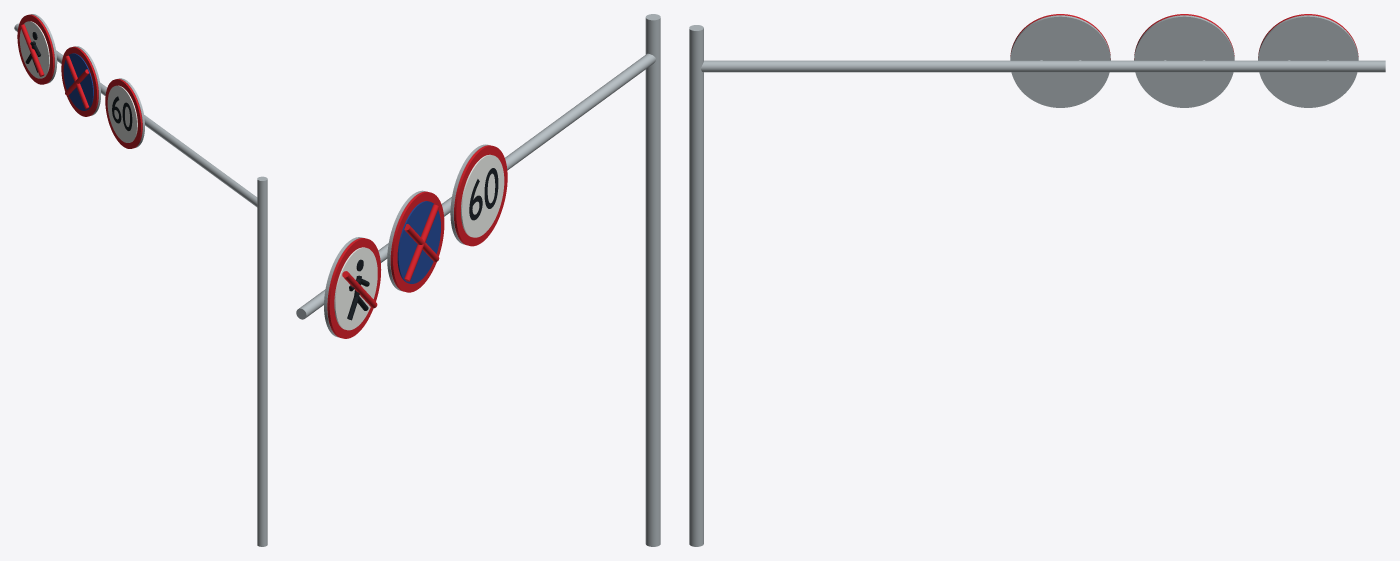
The model's file is portal-signs.glb.
The picture shows the model from 3 angles, left to right: view 1: azimuth 30°, elevation 25°; view 2: azimuth 150°, elevation 25°; view 3: azimuth 270°, elevation 25°; orthographic projection. The views are drawn at different scales.
Visible parts, largest first — view 1: Cantilever post, Cantilever sign beam, Sign face.002, Sign face.001, Sign face, Red circular border, Red circular border.002, Red circular border.001; view 2: Cantilever post, Cantilever sign beam, Sign face.002, Sign face, Sign face.001, Red circular border.002, Red circular border, Red circular border.001, Speed limit 60, No stopping cross; view 3: Cantilever sign beam, Cantilever post, Galvanized sign back.001, Galvanized sign back.002, Galvanized sign back.
Boxes of the visible parts, box(x1,y1,x2,y2) form: Cantilever post: box(257, 176, 267, 546); Cantilever sign beam: box(14, 23, 257, 207); Sign face.002: box(107, 85, 137, 142); Sign face.001: box(63, 53, 93, 110); Sign face: box(19, 21, 49, 78); Red circular border: box(17, 14, 54, 84); Red circular border.002: box(105, 79, 142, 148); Red circular border.001: box(61, 46, 98, 116); Cantilever post: box(645, 14, 660, 546); Cantilever sign beam: box(296, 53, 655, 319); Sign face.002: box(461, 154, 504, 237); Sign face: box(334, 247, 377, 330); Sign face.001: box(397, 201, 440, 283); Red circular border.002: box(454, 145, 507, 246); Red circular border: box(327, 238, 381, 338); Red circular border.001: box(390, 191, 444, 292); Speed limit 60: box(469, 168, 498, 220); No stopping cross: box(404, 204, 438, 281); Cantilever sign beam: box(701, 60, 1385, 72); Cantilever post: box(689, 25, 703, 546); Galvanized sign back.001: box(1134, 15, 1234, 107); Galvanized sign back.002: box(1010, 15, 1110, 107); Galvanized sign back: box(1258, 15, 1358, 107).
Size of the model in its own units: 0.415 by 7.45 by 8.99.
